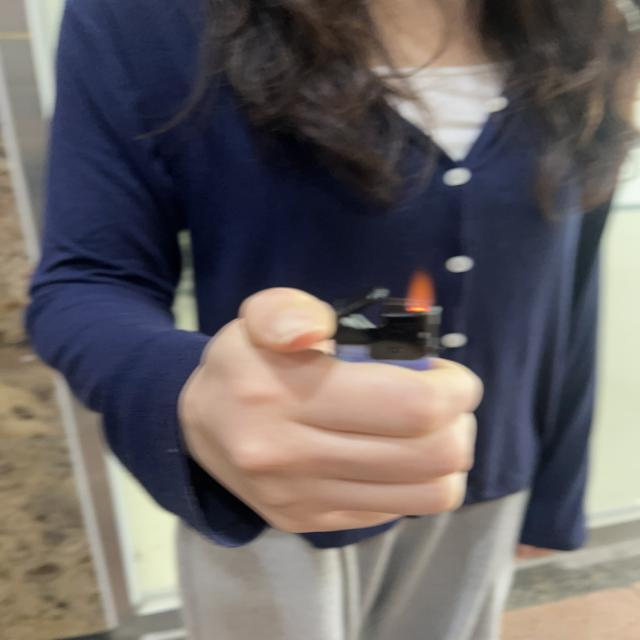fire: (405, 269, 438, 313)
